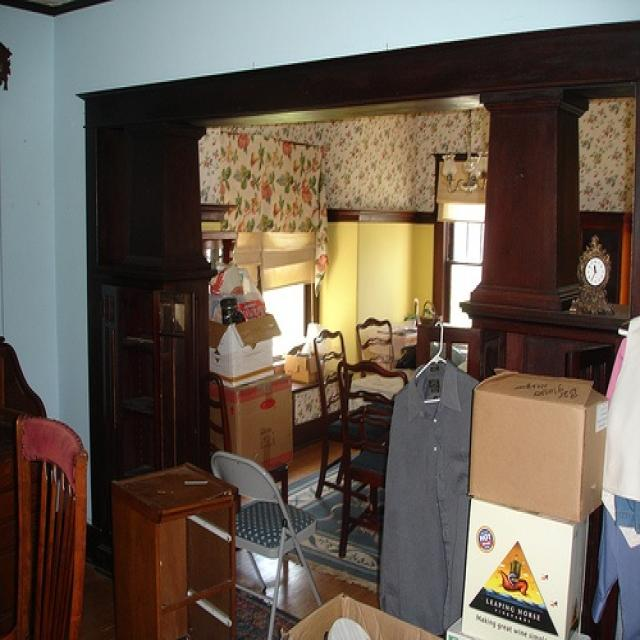chair: (210, 449, 322, 633), (5, 414, 85, 636), (336, 358, 414, 577), (308, 330, 377, 508), (353, 316, 398, 374)
